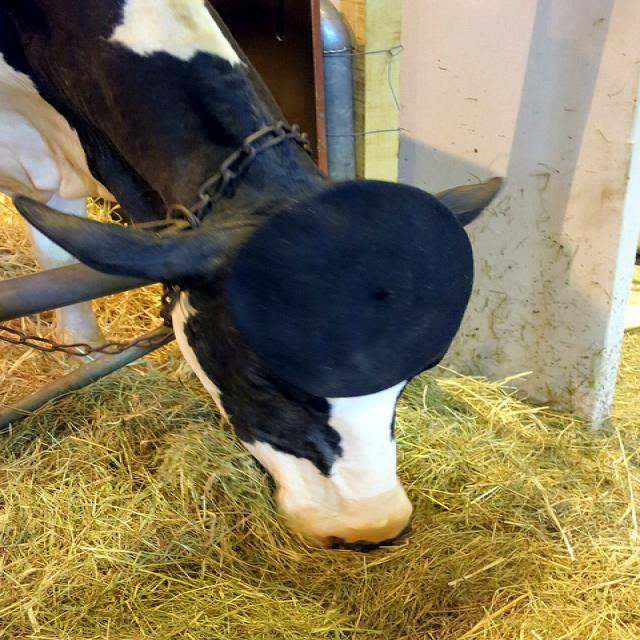cow: (0, 0, 496, 549)
